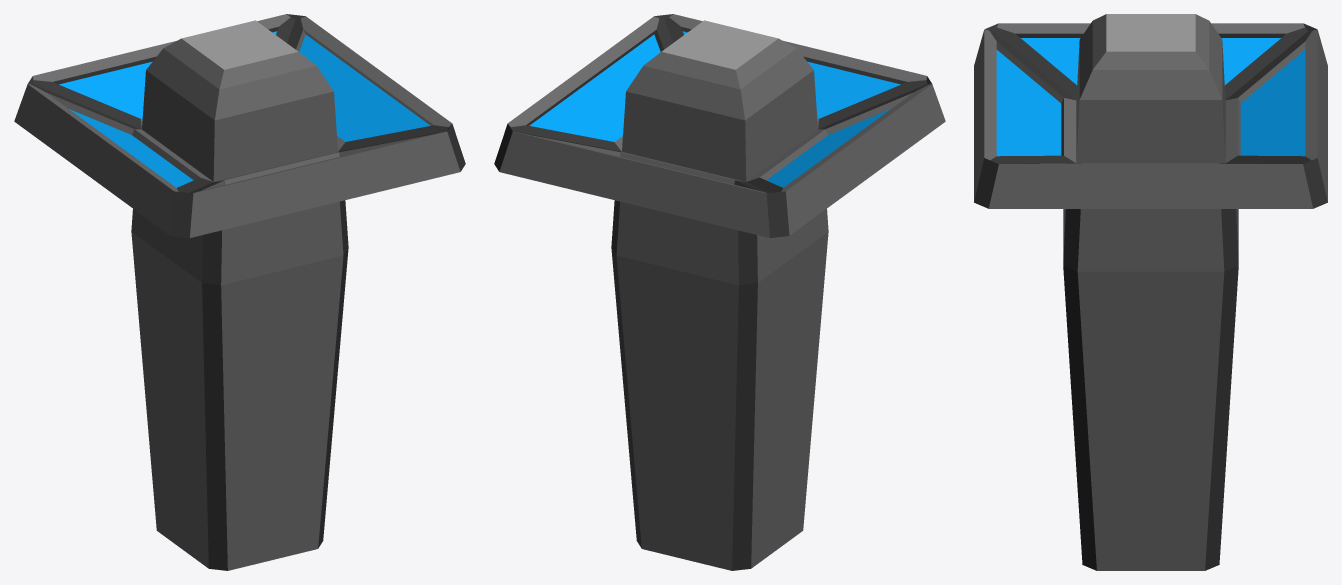
Rendered from Power_B.fbx.
3 views of the same model, side by side, from view 1: azimuth 30°, elevation 25°; view 2: azimuth 150°, elevation 25°; view 3: azimuth 270°, elevation 25° (orthographic). The views are drawn at different scales.
Parts seen in each view (by area): view 1: Cube; view 2: Cube; view 3: Cube.
Part boxes in pixels (<box>): Cube: <box>14,14,465,570</box>; Cube: <box>494,14,945,570</box>; Cube: <box>974,14,1327,570</box>.
Bounding box in the file's own units: 1.29 × 2.05 × 1.29.
